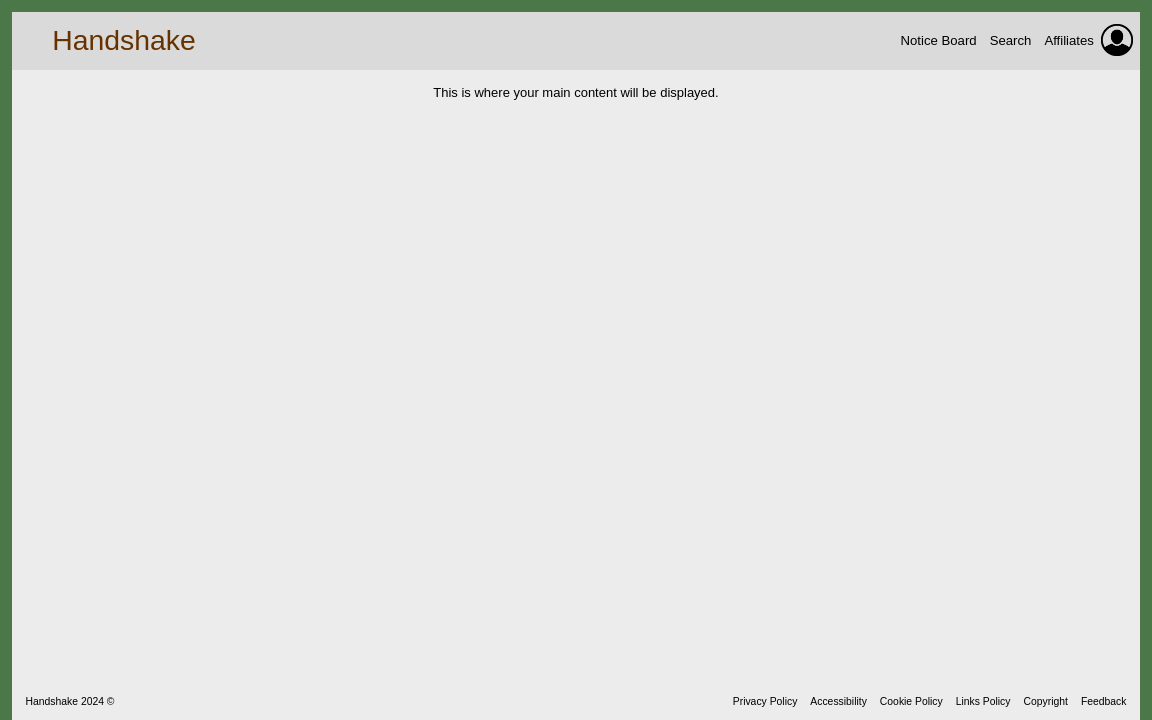
Test: BaseTemplate › Toggles profile dropdown on profile icon click
Expected: the text "Profile" is not shown
Click the picture with alt text "profile-icon" at (1117, 40), box x1=1101 y1=24 x2=1133 y2=56
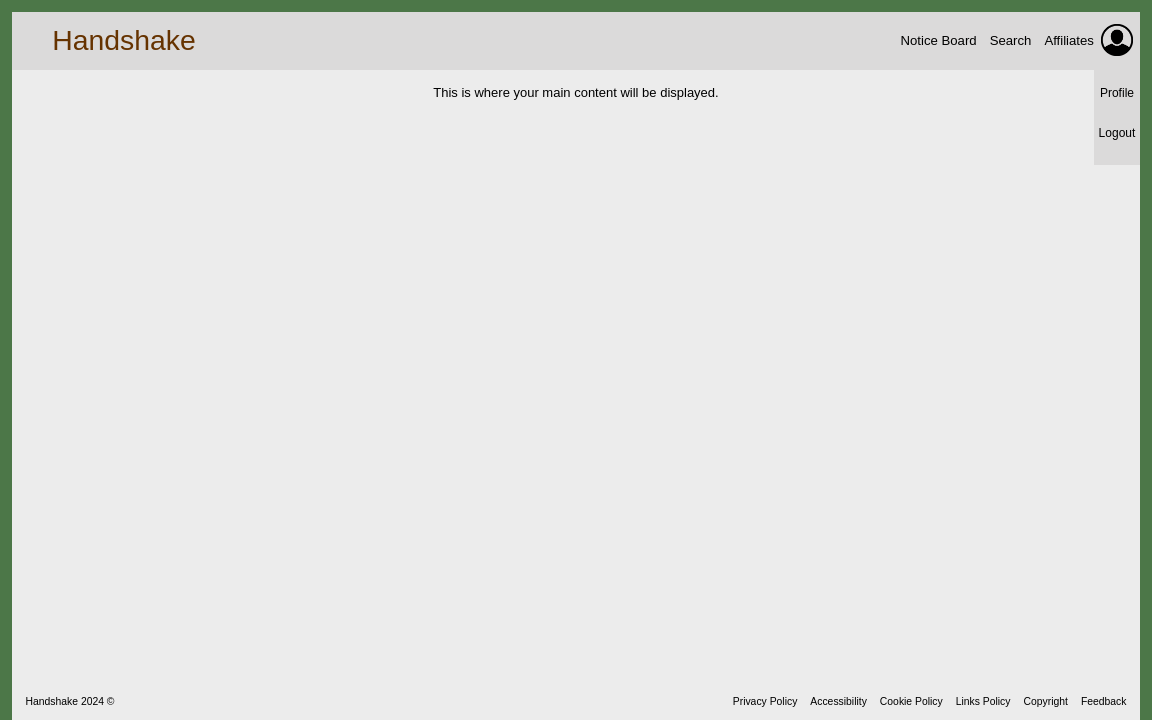
Expected: the link "Profile" is shown, x1=1100 y1=84 x2=1134 y2=102
Click the picture with alt text "profile-icon" at (1117, 40), box x1=1101 y1=24 x2=1133 y2=56
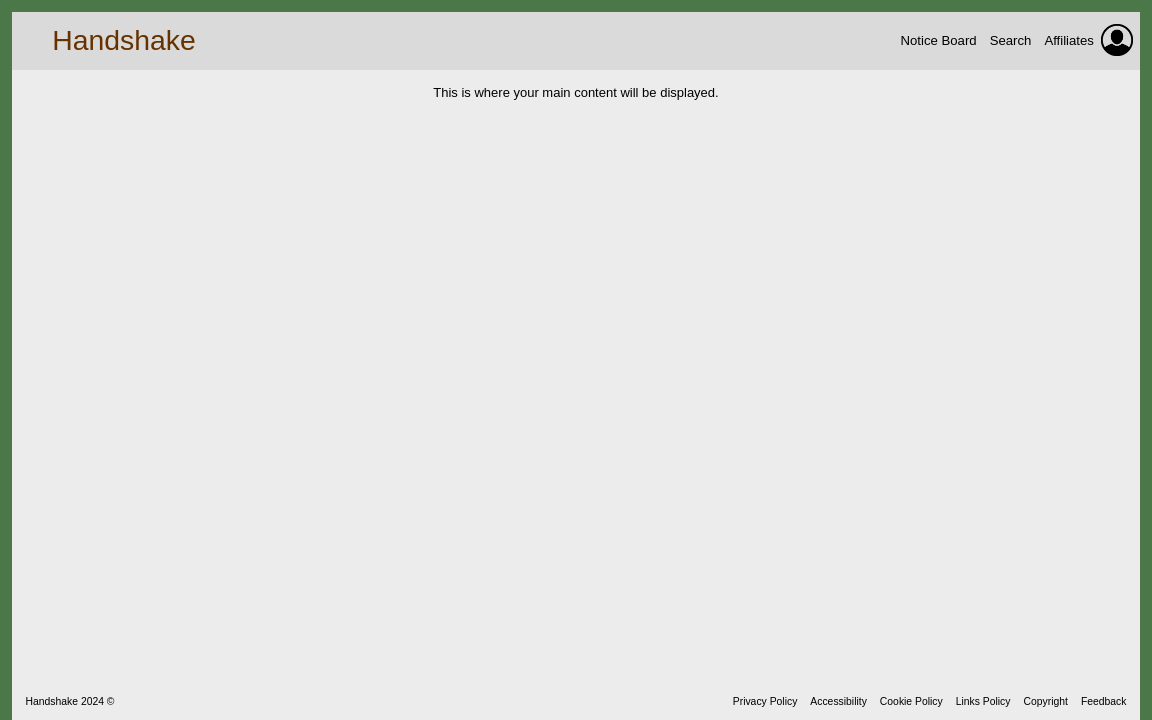
Expected: the link "Profile" is gone
